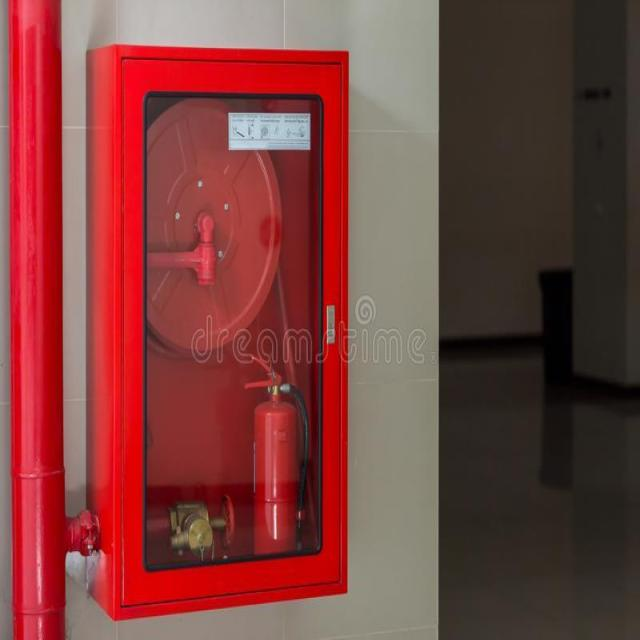fire_extinguisher: (239, 344, 313, 584)
